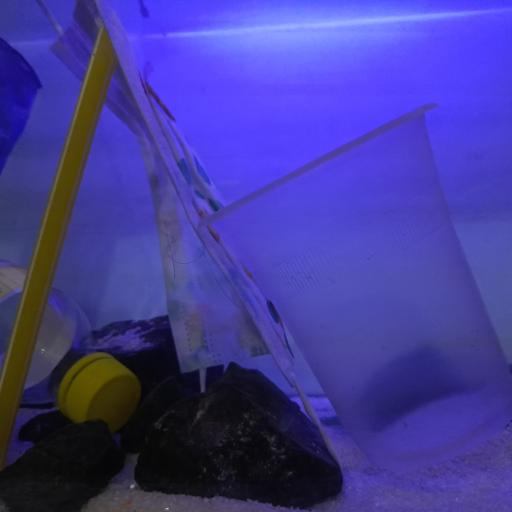bottle_cap: (71, 357, 134, 431)
mask: (50, 0, 301, 391)
plastic_bottle: (0, 247, 138, 445)
plastic_cup: (196, 98, 512, 475)
plastic_straw: (0, 4, 119, 445)
